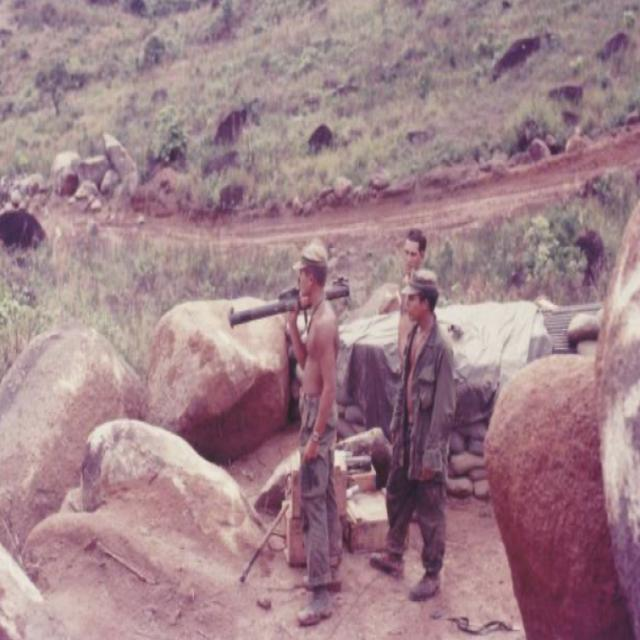bazooka: (224, 276, 355, 335)
